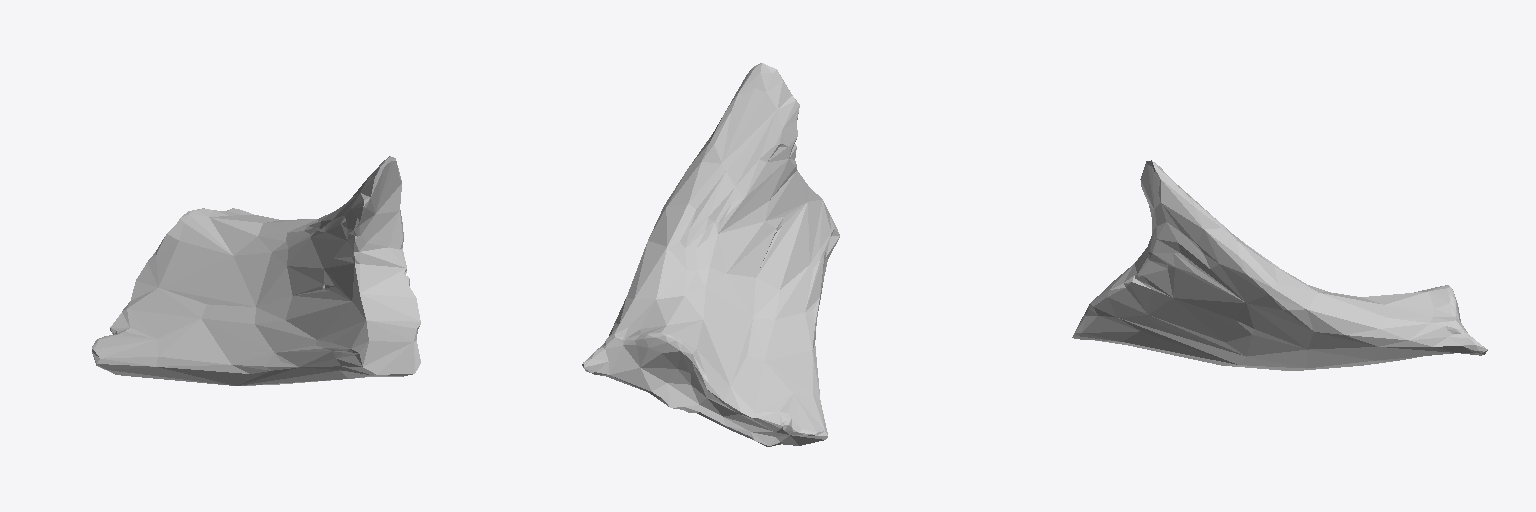
Rendered from left rectus capitis lateralis.obj.
3 views of the same model, side by side, from view 1: azimuth 30°, elevation 25°; view 2: azimuth 150°, elevation 25°; view 3: azimuth 270°, elevation 25° (orthographic).
Visible parts, largest first — view 1: grp1; view 2: grp1; view 3: grp1.
Part boxes in pixels (bbox=[...]): grp1: bbox=[92, 156, 420, 385]; grp1: bbox=[582, 63, 839, 446]; grp1: bbox=[1072, 160, 1487, 370].
Bounding box in the file's own units: 14.06 × 15.87 × 23.07.